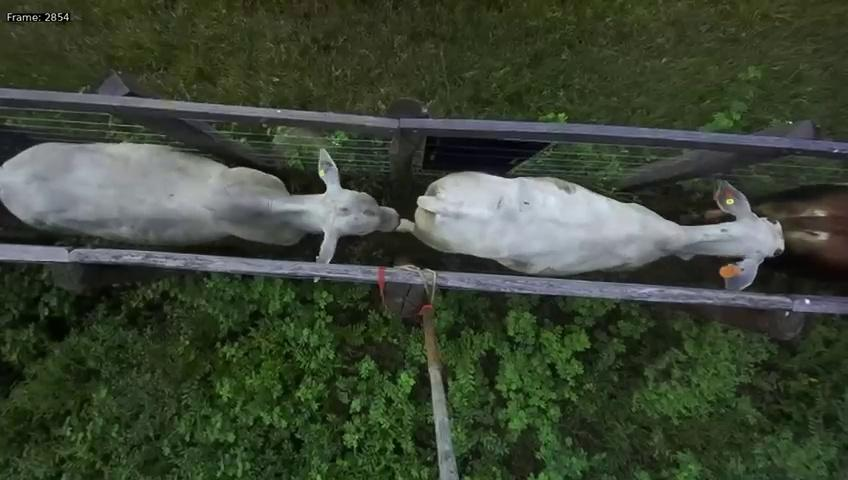cattle: (408, 151, 789, 300), (2, 136, 401, 265)
